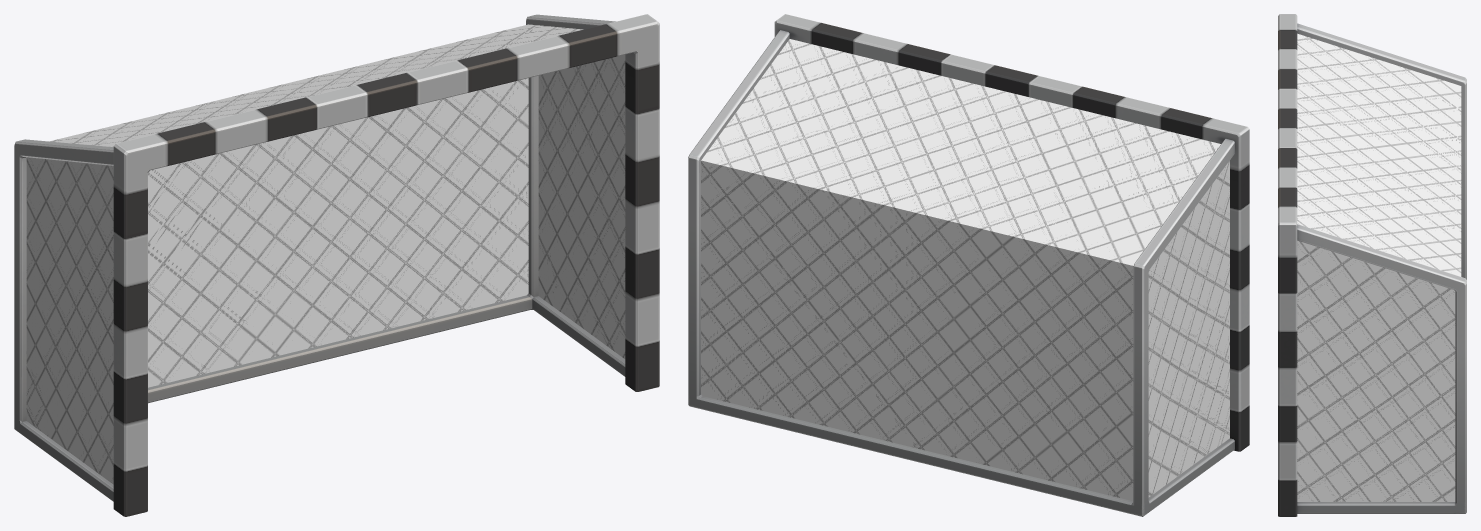
Rendered from football_gates_1_black.fbx.
3 views of the same model, side by side, from view 1: azimuth 30°, elevation 25°; view 2: azimuth 150°, elevation 25°; view 3: azimuth 270°, elevation 25° (orthographic). The views are drawn at different scales.
Visible parts, largest first — view 1: goal_net, football_gates_1_black; view 2: goal_net, football_gates_1_black; view 3: goal_net, football_gates_1_black.
Part boxes in pixels (x1,y1,x2,y2): goal_net: [26, 24, 625, 484]; football_gates_1_black: [14, 14, 659, 516]; goal_net: [701, 39, 1229, 500]; football_gates_1_black: [688, 14, 1249, 516]; goal_net: [1297, 33, 1461, 501]; football_gates_1_black: [1278, 14, 1466, 516].
Size of the model in its own units: 327 by 213 by 124.
